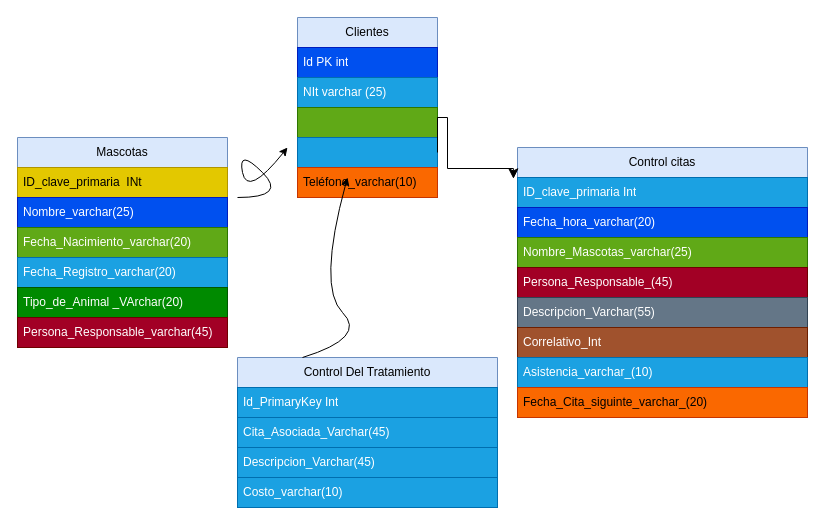
This 825x525 diagram has some shape labels left out. Here are the shapes that lost their labels. From the top down, the centre of each, then its label:
the point at 367,122: Name_varchar (45)
the point at 367,152: Dirección_varchar(20)
